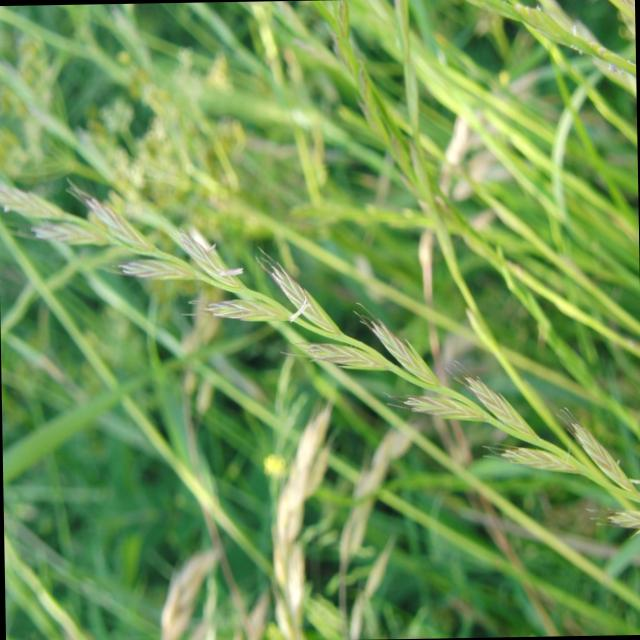Lolium: (0, 166, 640, 537), (316, 0, 483, 261), (406, 142, 554, 422), (269, 402, 335, 640), (332, 410, 429, 564), (157, 549, 225, 640)
